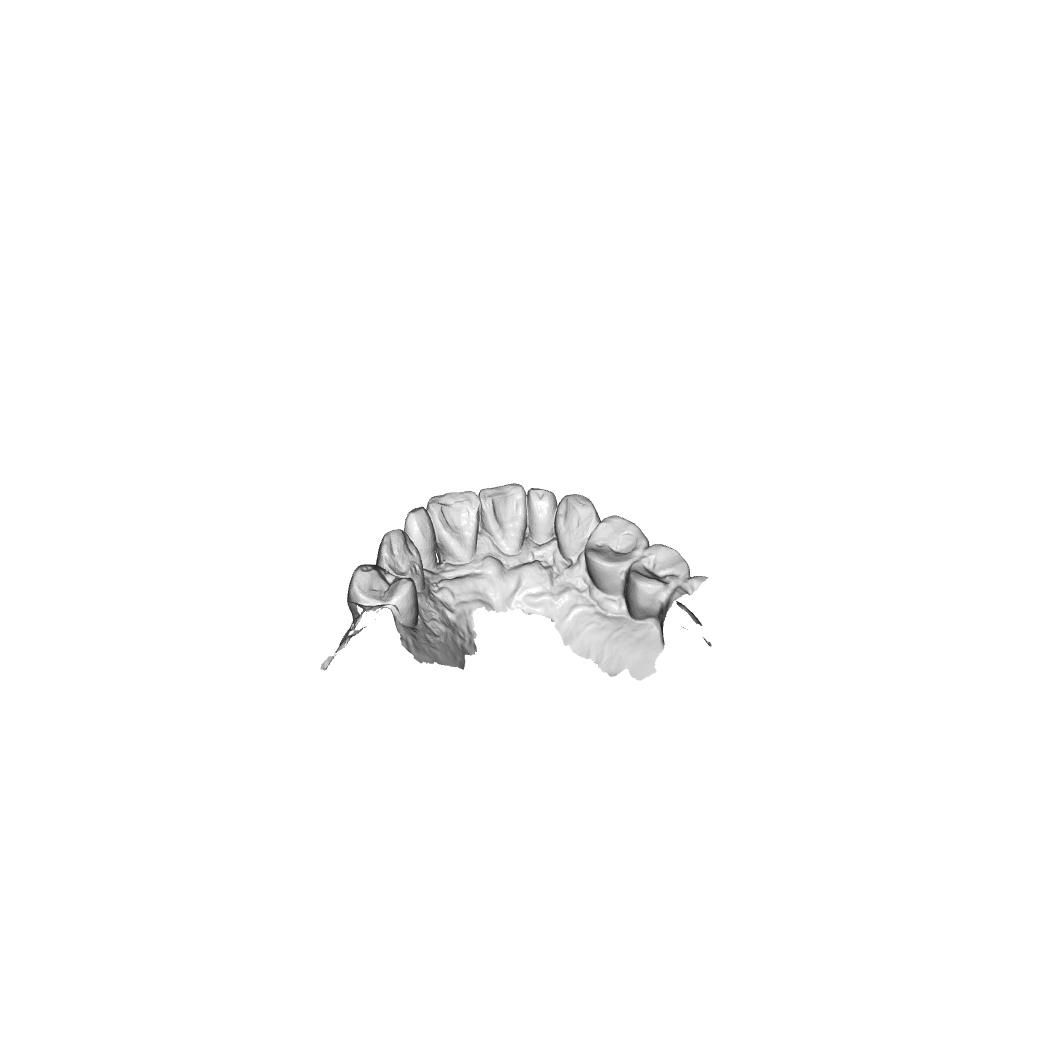canine: (375, 528, 426, 594), (554, 493, 602, 563)
incisor: (425, 489, 482, 567), (478, 483, 527, 556), (403, 506, 438, 572), (526, 487, 560, 546)
premolar: (584, 514, 650, 597), (623, 543, 691, 622), (346, 562, 420, 632)
